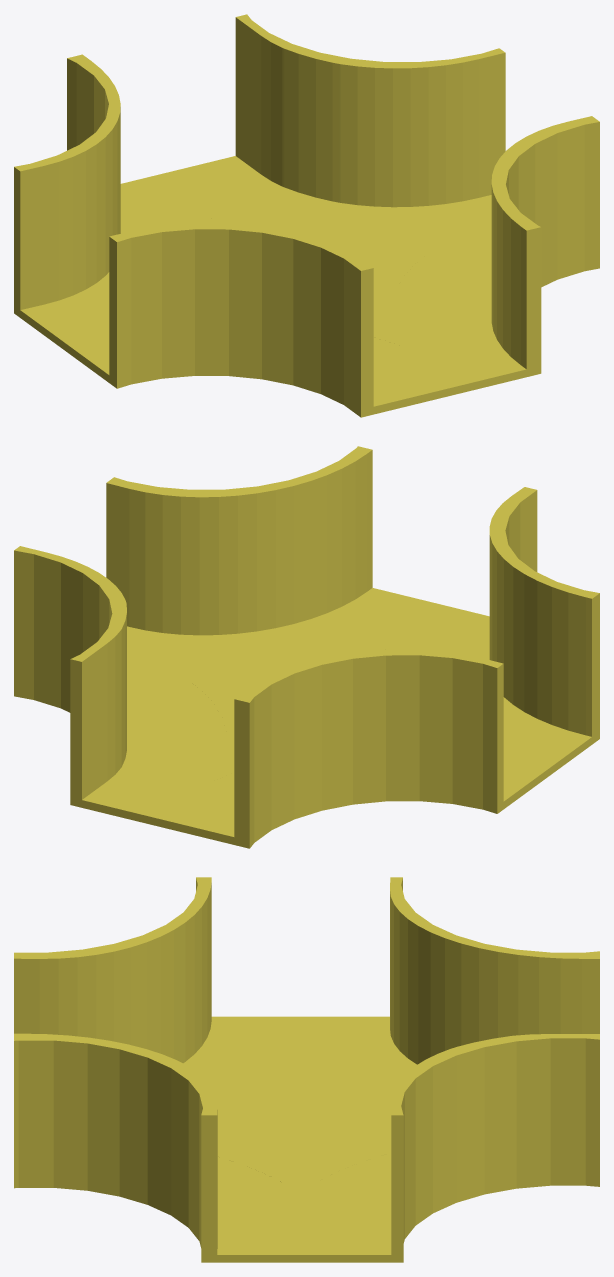
File: FRFWC4X4YL 4 way cross fitting.glb
3 views of the same model, one above another, from view 1: azimuth 30°, elevation 25°; view 2: azimuth 150°, elevation 25°; view 3: azimuth 270°, elevation 25° (orthographic).
Visible parts, largest first — view 1: Mesh_Mesh_head_geo.001_lambert2SG.001; view 2: Mesh_Mesh_head_geo.001_lambert2SG.001; view 3: Mesh_Mesh_head_geo.001_lambert2SG.001.
Boxes of the visible parts, bbox=[...] form: Mesh_Mesh_head_geo.001_lambert2SG.001: bbox=[14, 14, 599, 417]; Mesh_Mesh_head_geo.001_lambert2SG.001: bbox=[14, 446, 599, 848]; Mesh_Mesh_head_geo.001_lambert2SG.001: bbox=[14, 877, 599, 1262].
Bounding box in the file's own units: 38.73 × 11.18 × 40.28.
